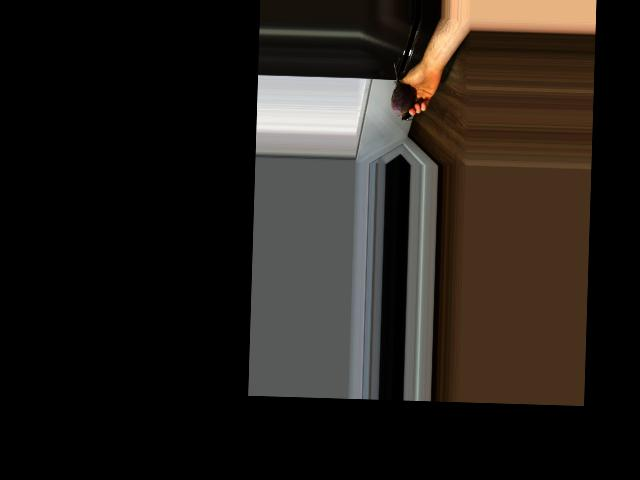beet: (390, 63, 415, 121)
